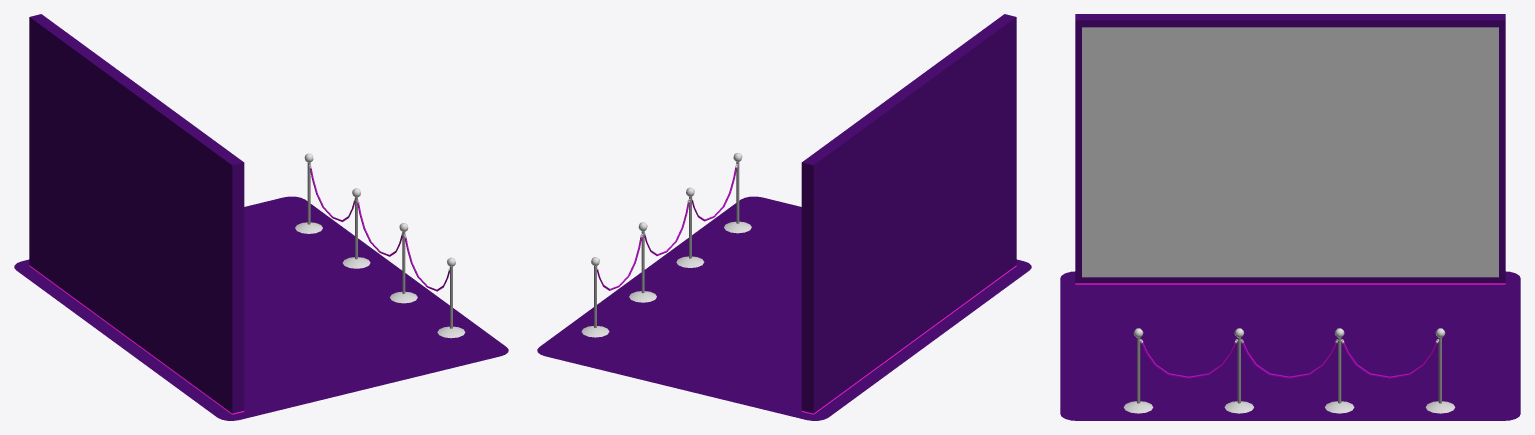
File: photowall.gltf
3 renders of one model, left to right at view 1: azimuth 30°, elevation 25°; view 2: azimuth 150°, elevation 25°; view 3: azimuth 270°, elevation 25°, orthographic. The views are drawn at different scales.
Visible parts, largest first — view 1: Plane.014, Photowall_Limit; view 2: Plane.014, Photowall_Limit; view 3: Plane.013, Plane.014, Photowall_Limit.
Part boxes in pixels (left/top/right/bottom): Plane.014: left=14, top=14, right=508, bottom=420; Photowall_Limit: left=295, top=153, right=465, bottom=338; Plane.014: left=537, top=14, right=1031, bottom=420; Photowall_Limit: left=581, top=153, right=751, bottom=337; Plane.013: left=1082, top=27, right=1498, bottom=277; Plane.014: left=1060, top=14, right=1520, bottom=420; Photowall_Limit: left=1123, top=328, right=1455, bottom=413.
Size of what is drawn, in the model's own units: 5.1 by 4.22 by 6.63.
